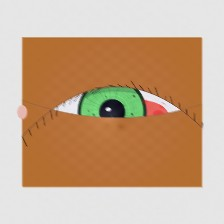hemorrhage_spot: (95, 82, 180, 149)
